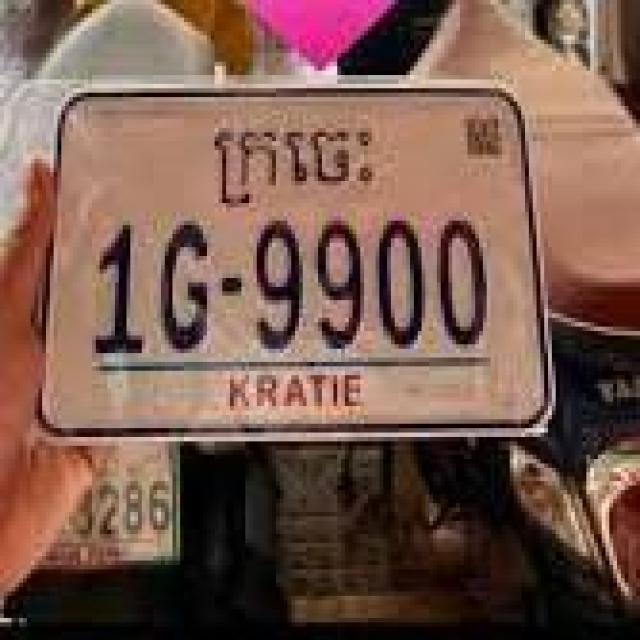Kratie: (207, 124, 380, 210)
